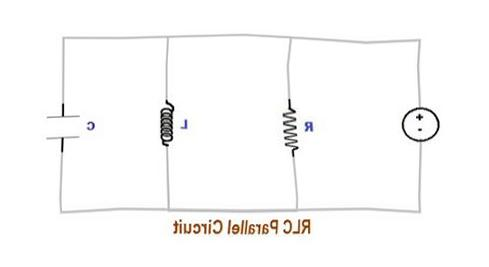Battery: (388, 100, 452, 155)
